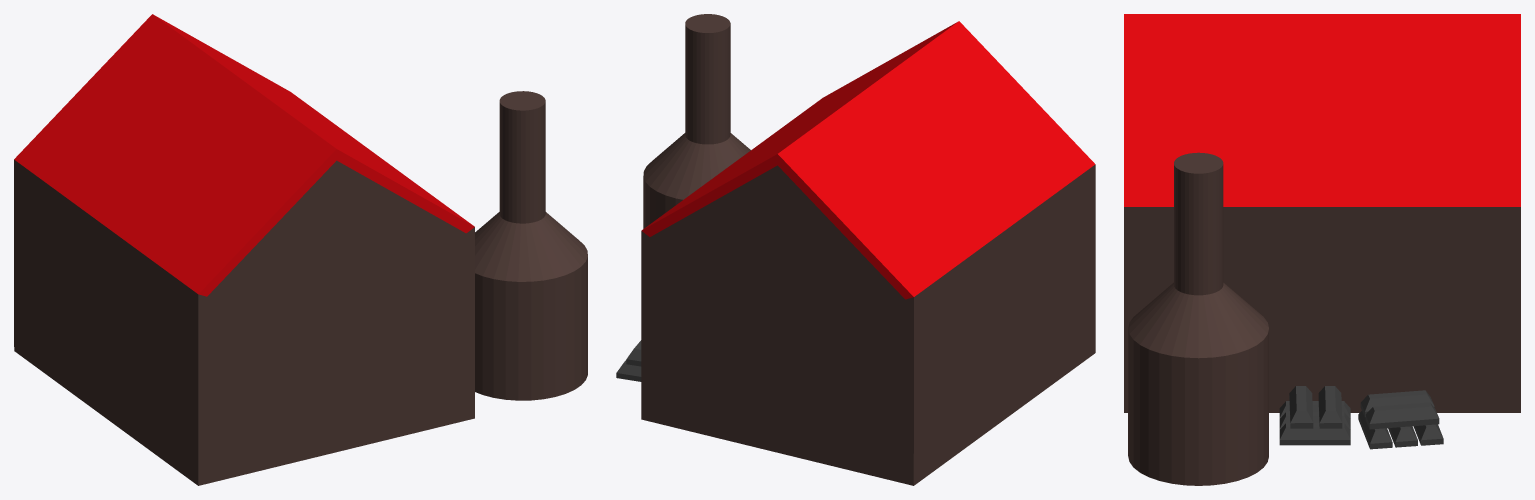
The model's file is Blacksmith.fbx.
3 renders of one model, left to right at view 1: azimuth 30°, elevation 25°; view 2: azimuth 150°, elevation 25°; view 3: azimuth 270°, elevation 25°, orthographic. The views are drawn at different scales.
Visible parts, largest first — view 1: Cube; view 2: Cube; view 3: Cube.
Part boxes in pixels (x1=…): Cube: x1=14, y1=14, x2=587, y2=485; Cube: x1=616, y1=14, x2=1095, y2=485; Cube: x1=1124, y1=14, x2=1520, y2=485.
Bounding box in the file's own units: 732 × 511 × 563.
